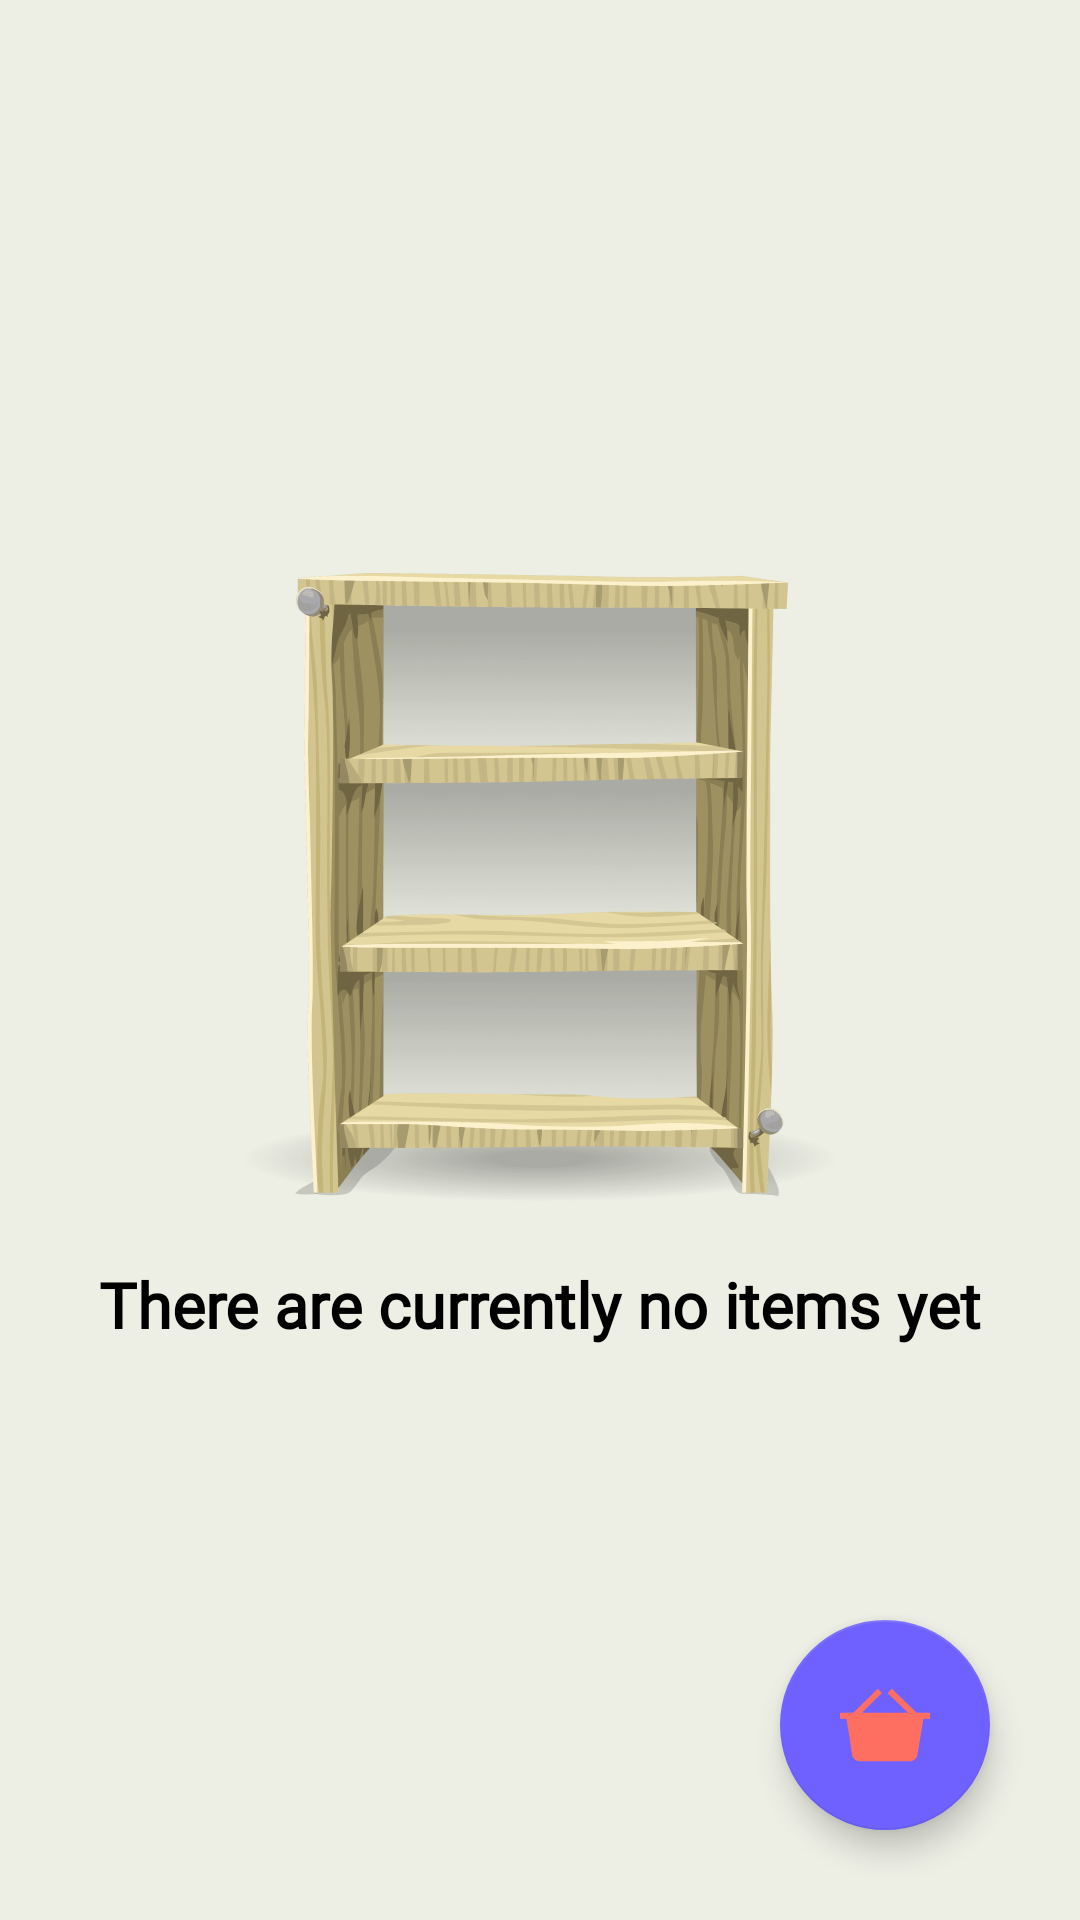

Icon click points for this 1080x1920 phone screenshot, format (x=x, y=y):
basket: (x=885, y=1725)
